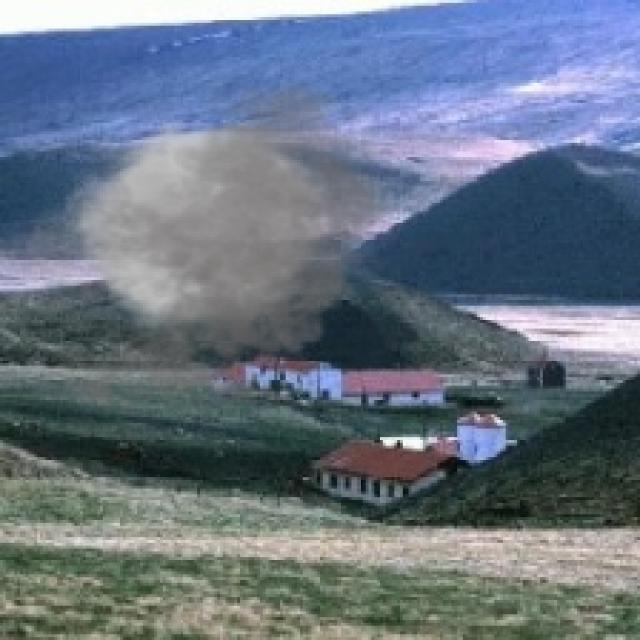Smoke: (2, 68, 408, 423)
